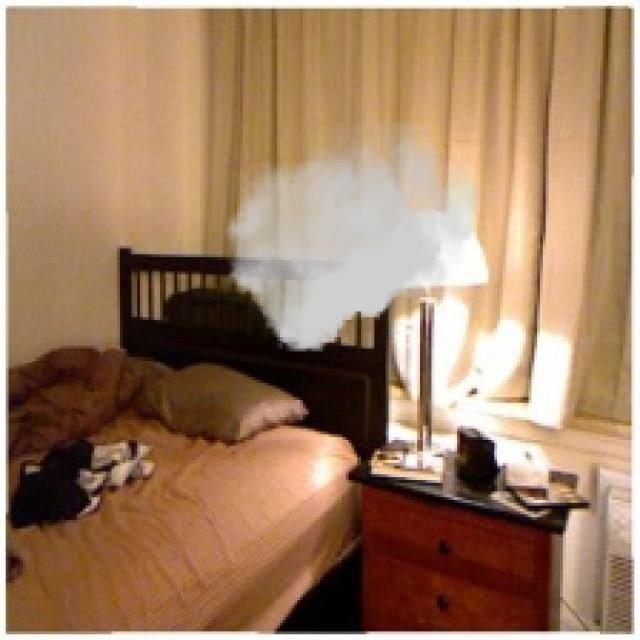smoke: (226, 123, 477, 351)
